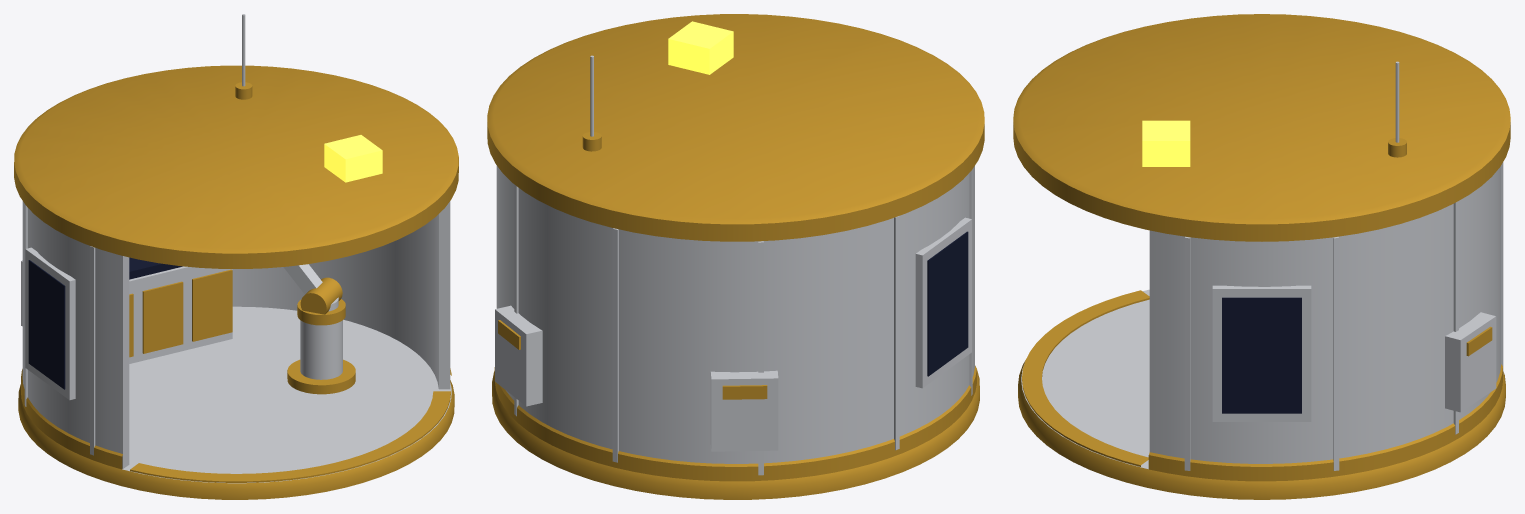
File: workshop.glb
3 views of the same model, side by side, from view 1: azimuth 30°, elevation 25°; view 2: azimuth 150°, elevation 25°; view 3: azimuth 270°, elevation 25° (orthographic). The views are drawn at different scales.
Visible parts, largest first — view 1: workshop_shell, arm_mesh, glow_lamp; view 2: workshop_shell, glow_lamp; view 3: workshop_shell, glow_lamp.
Boxes of the visible parts, <box> form: workshop_shell: <box>14,14,458,499</box>; arm_mesh: <box>283,264,345,325</box>; glow_lamp: <box>324,135,382,182</box>; workshop_shell: <box>487,14,984,499</box>; glow_lamp: <box>668,21,733,74</box>; workshop_shell: <box>1013,14,1510,499</box>; glow_lamp: <box>1142,120,1190,166</box>.
Size of the model in its own units: 3.12 by 2.57 by 3.12.
